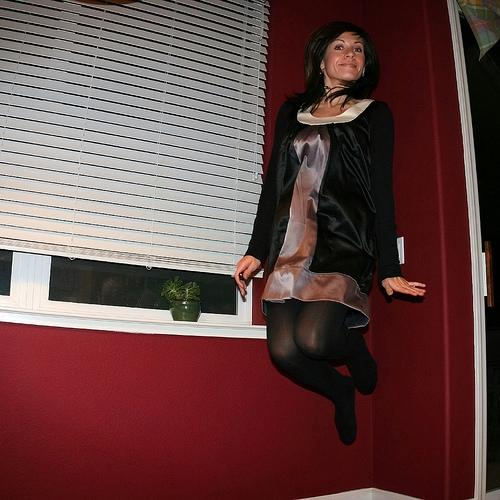person: (235, 26, 422, 450)
